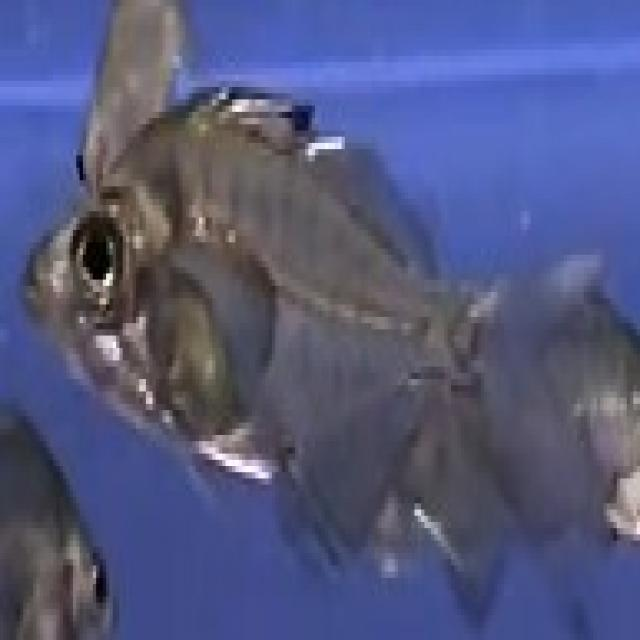Glass-Perchlet: (1, 47, 636, 576)
